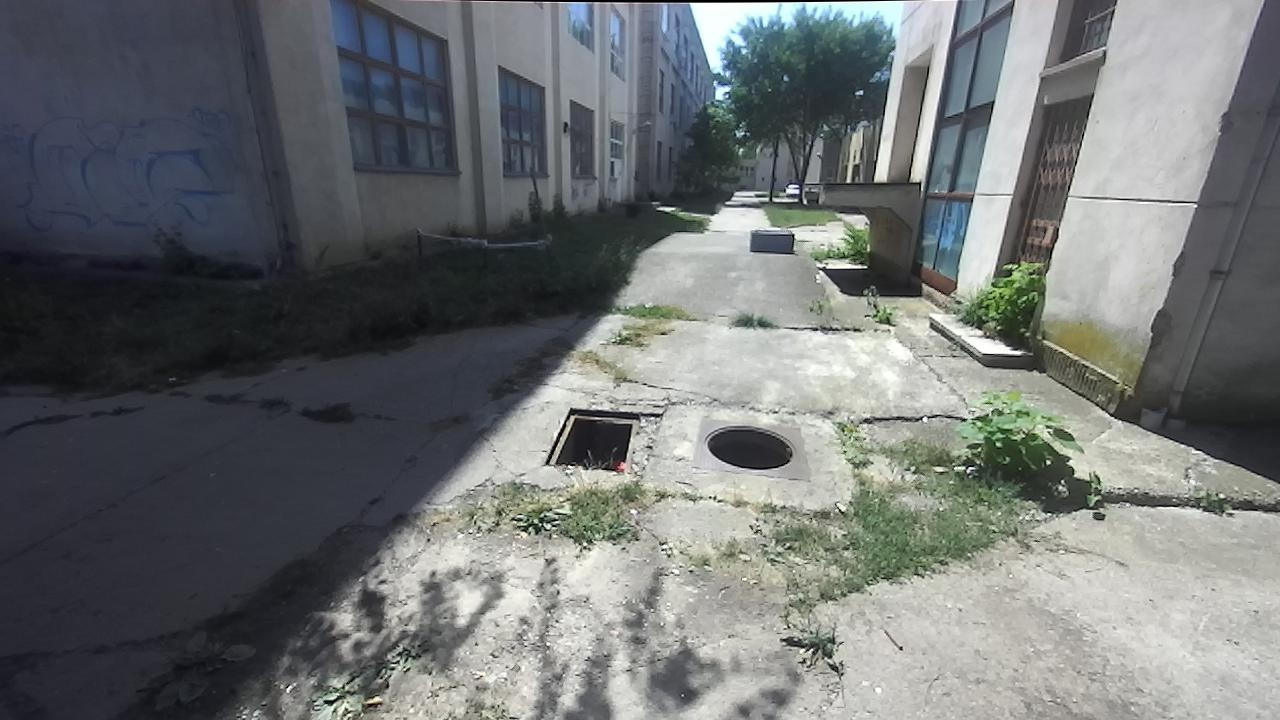drain: (537, 403, 645, 470), (696, 420, 801, 469)
